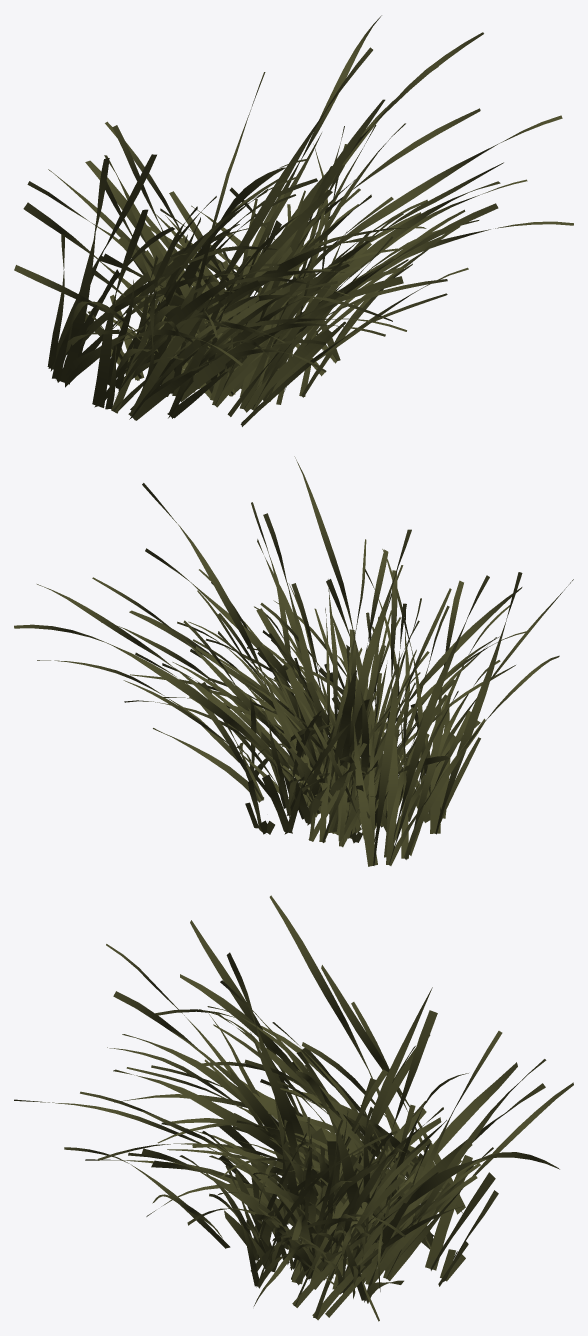
The model's file is RandomGrassPatch.obj.
3 renders of one model, top to bottom at view 1: azimuth 30°, elevation 25°; view 2: azimuth 150°, elevation 25°; view 3: azimuth 270°, elevation 25°, orthographic. The views are drawn at different scales.
Visible parts, largest first — view 1: grassClump2Main grassClump2MeshGroup; view 2: grassClump2Main grassClump2MeshGroup; view 3: grassClump2Main grassClump2MeshGroup.
Boxes of the visible parts, bbox=[...] form: grassClump2Main grassClump2MeshGroup: bbox=[14, 15, 573, 426]; grassClump2Main grassClump2MeshGroup: bbox=[14, 456, 573, 866]; grassClump2Main grassClump2MeshGroup: bbox=[14, 895, 573, 1321].
Size of the model in its own units: 7.79 by 5.03 by 6.96.
